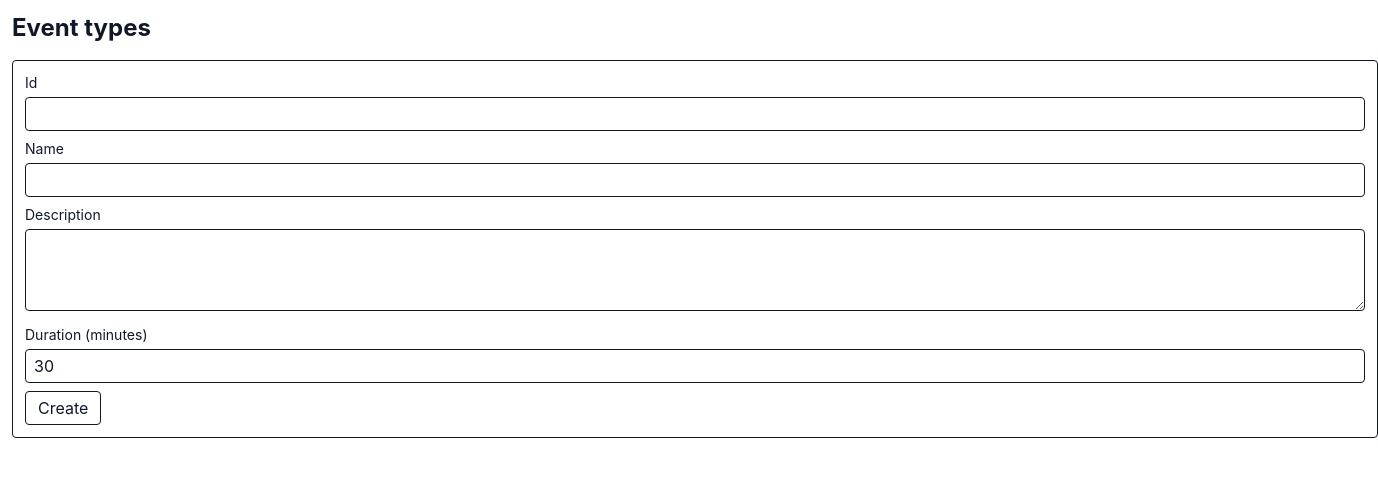
HostEventTypesPage › requires a valid id before creating
Type "Not A Slug" into the field labelled "Id" at (695, 114), box [25,97,1365,131]
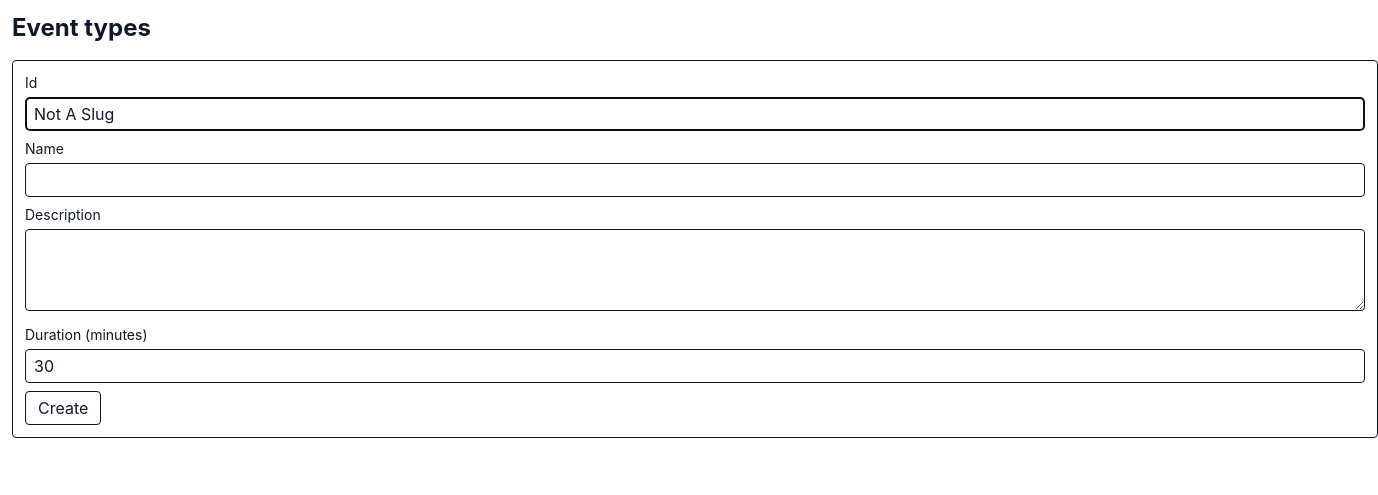
Type "Demo" into the field labelled "Name" at (695, 180), box [25,163,1365,197]
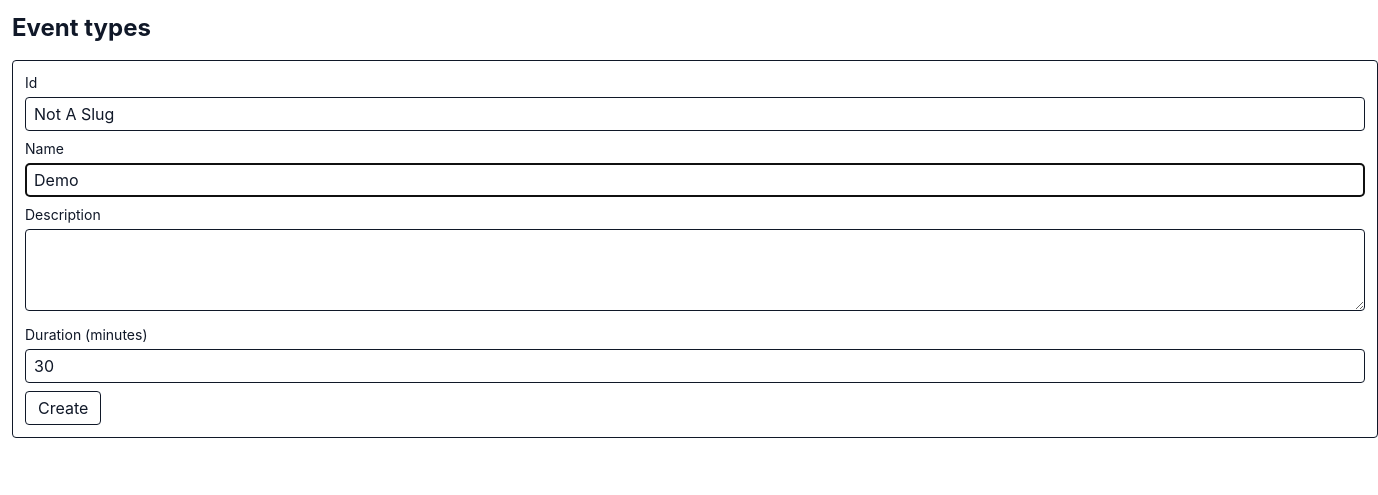
Click the button "Create" at (63, 408), box [25,391,101,425]
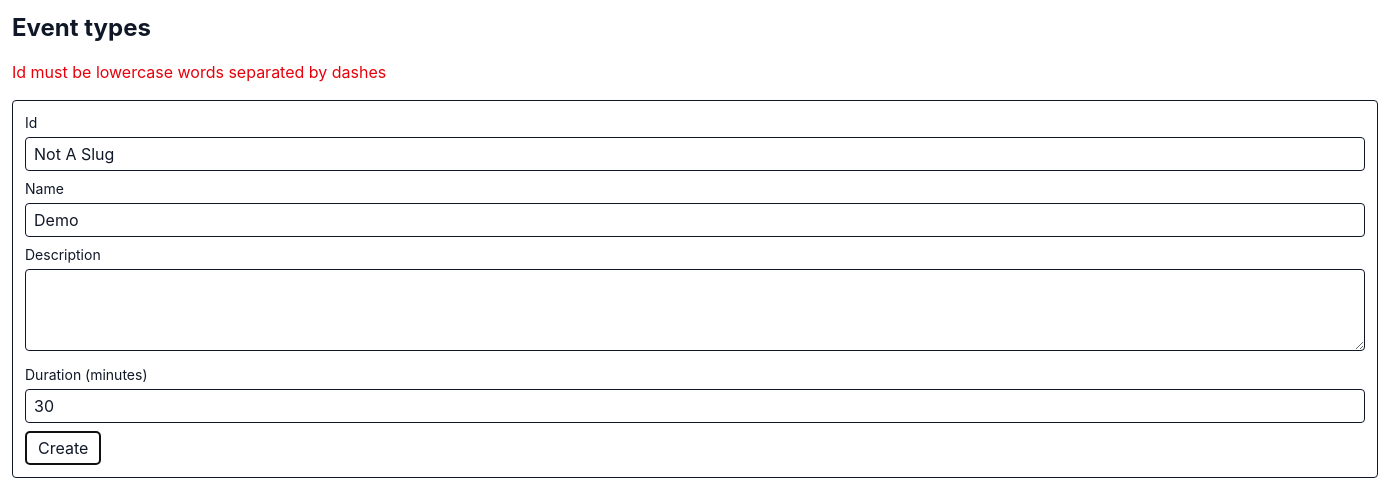
expect the text "Id must be lowercase words separated by dashes" is shown: met, box [12,62,386,82]
